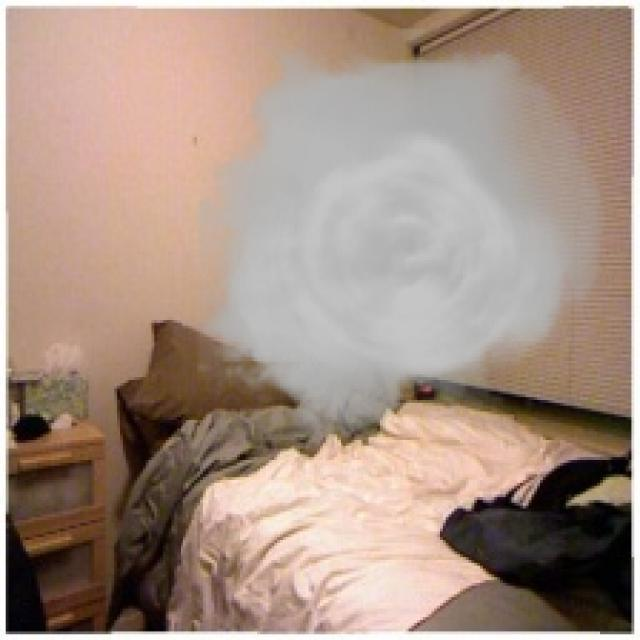Smoke: (197, 29, 606, 448)
